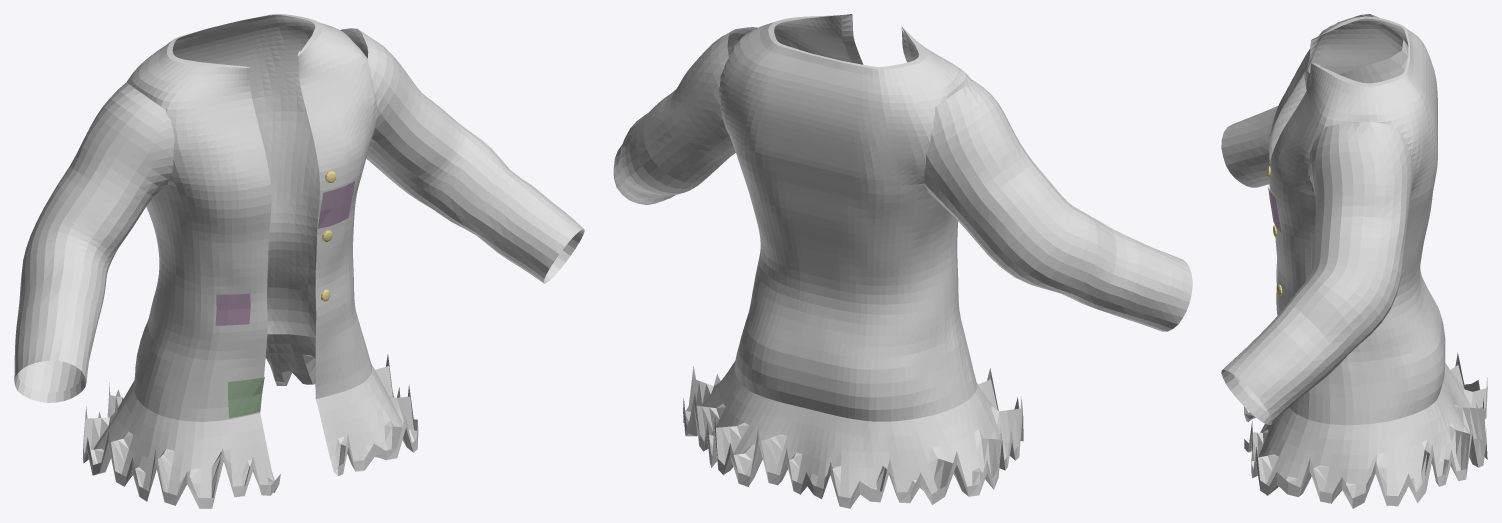
Rendered from ewb_scarecrow_open.glb.
3 renders of one model, left to right at view 1: azimuth 30°, elevation 25°; view 2: azimuth 150°, elevation 25°; view 3: azimuth 270°, elevation 25°, orthographic. The views are drawn at different scales.
Parts seen in each view (by area): view 1: ewb_scarecrow_open; view 2: ewb_scarecrow_open; view 3: ewb_scarecrow_open.
Boxes of the visible parts, x1=… form: ewb_scarecrow_open: x1=14, y1=14, x2=584, y2=508; ewb_scarecrow_open: x1=613, y1=14, x2=1192, y2=508; ewb_scarecrow_open: x1=1221, y1=14, x2=1487, y2=508.
Size of the model in its own units: 1.16 by 0.7913 by 0.4896.
